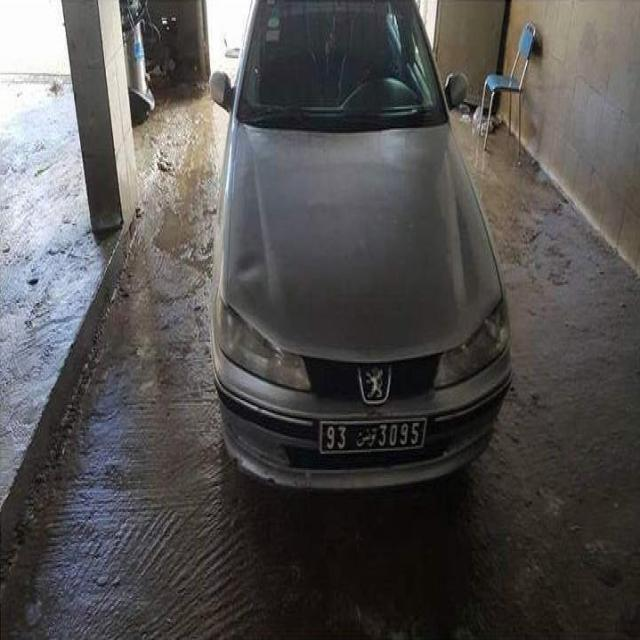licence plate: (320, 416, 427, 457)
